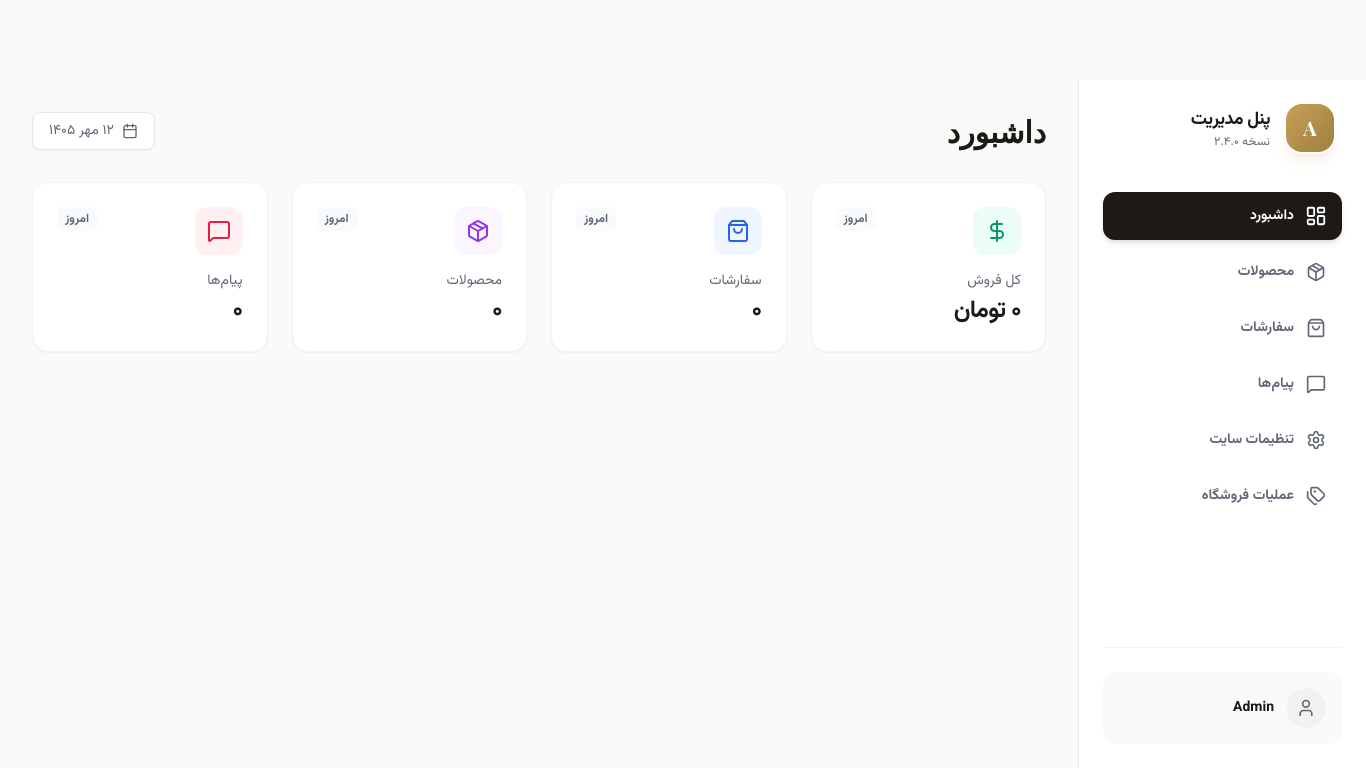
Test: staff cancellation uses the server transition and refreshes only the active order page
Click the button "سفارشات" at point(1222, 328), box [1103,304,1342,352]
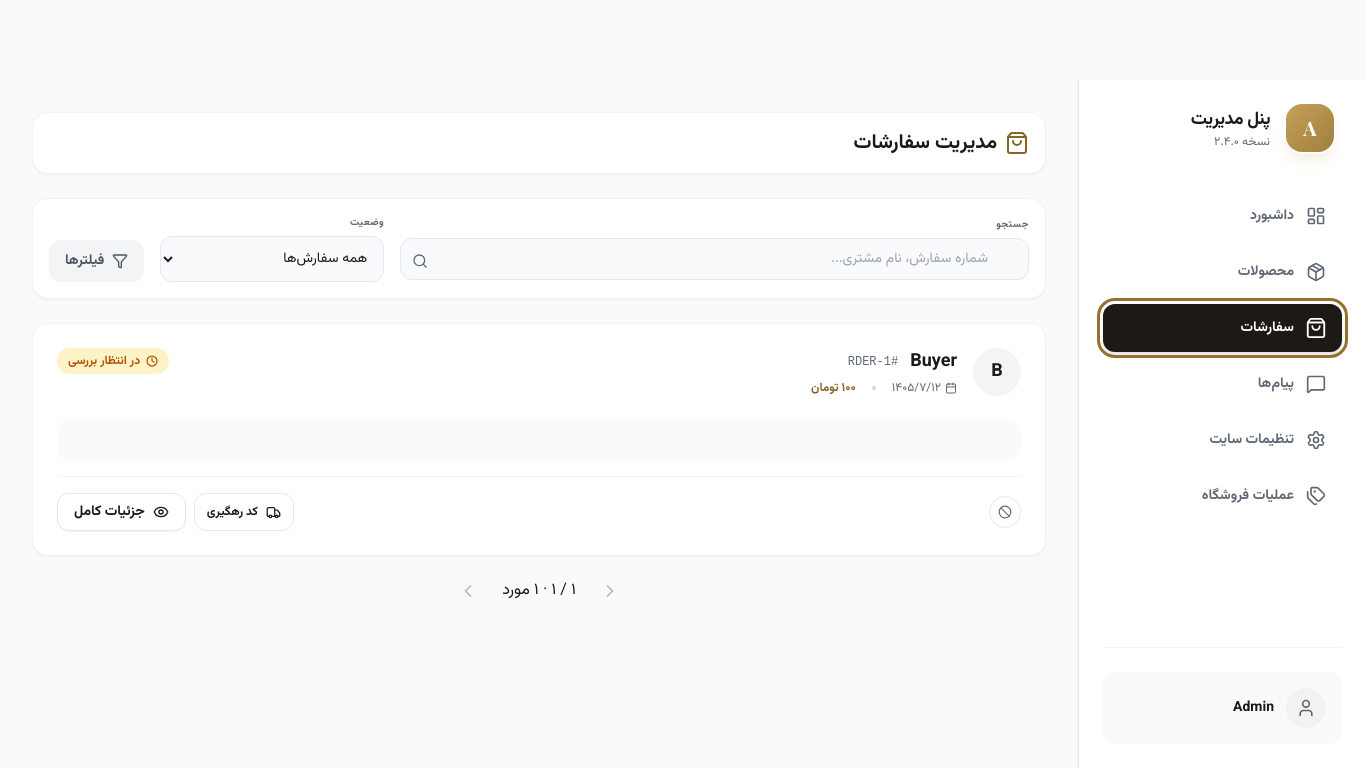
Click the button named "لغو شده" at point(1005, 512), box [989,496,1021,528]
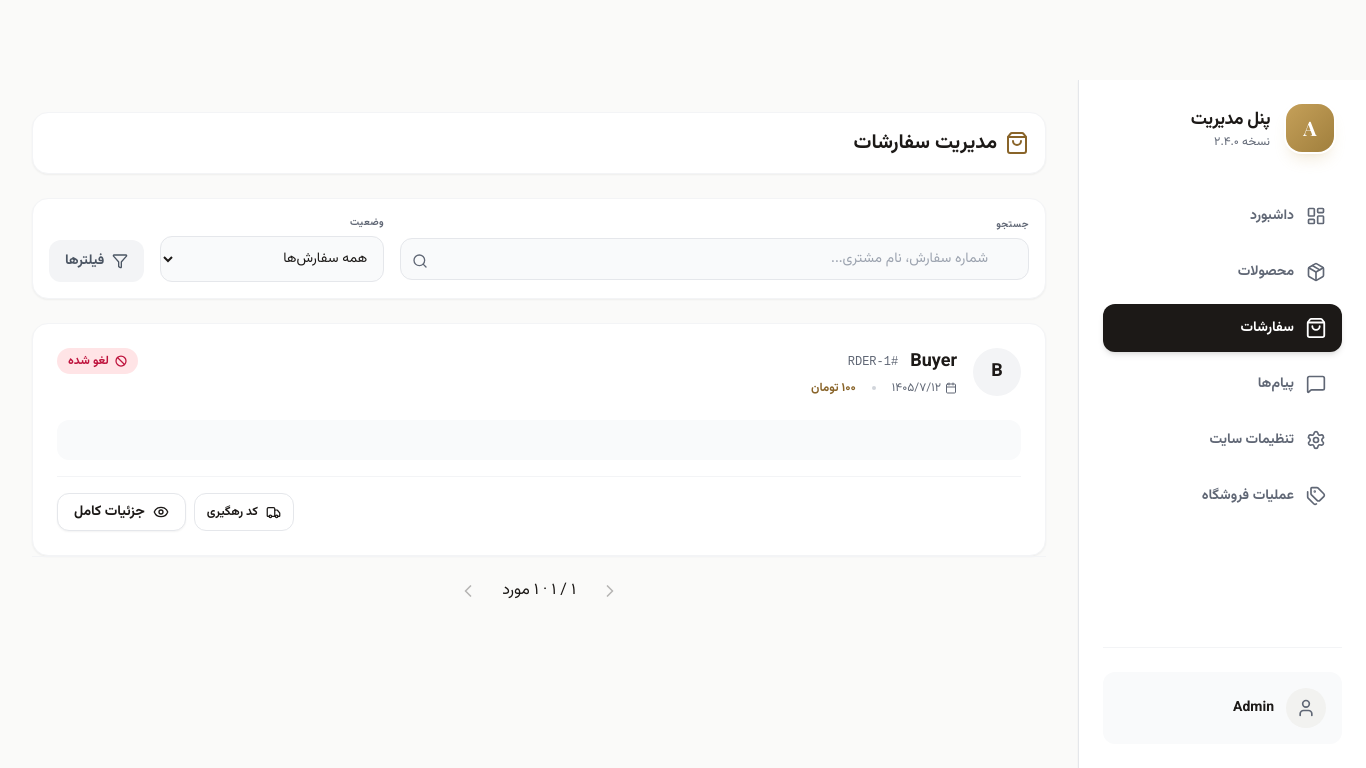
Click the button "جزئیات کامل" at point(121, 512), box [57,493,186,531]
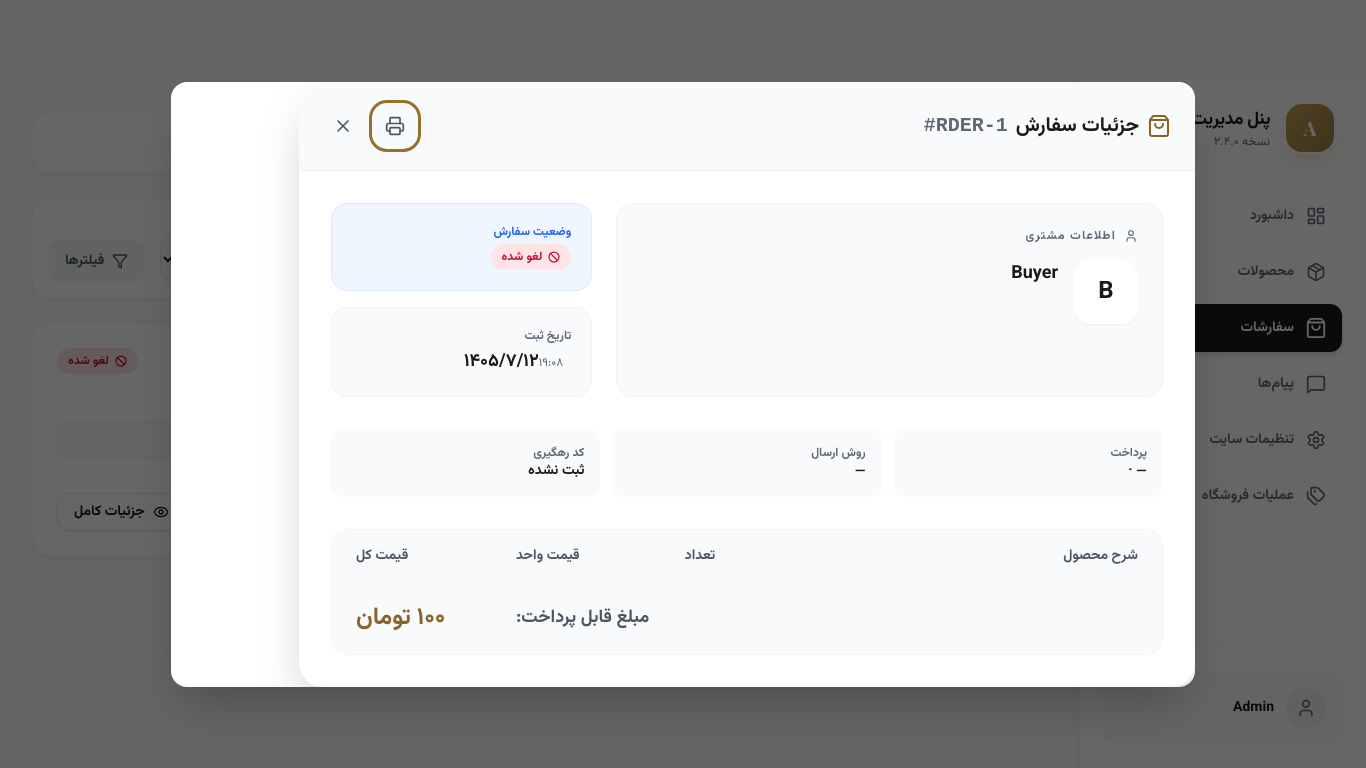
Expected: the text "لغو شده" is shown, [490,244,571,270]
